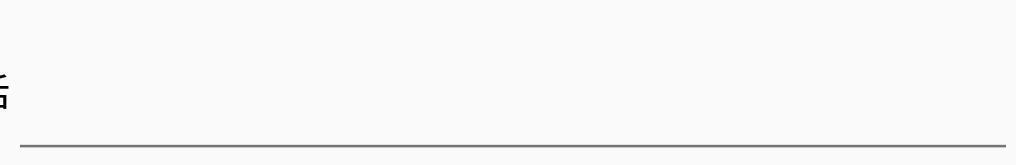EditText: (1, 1, 1015, 164)
